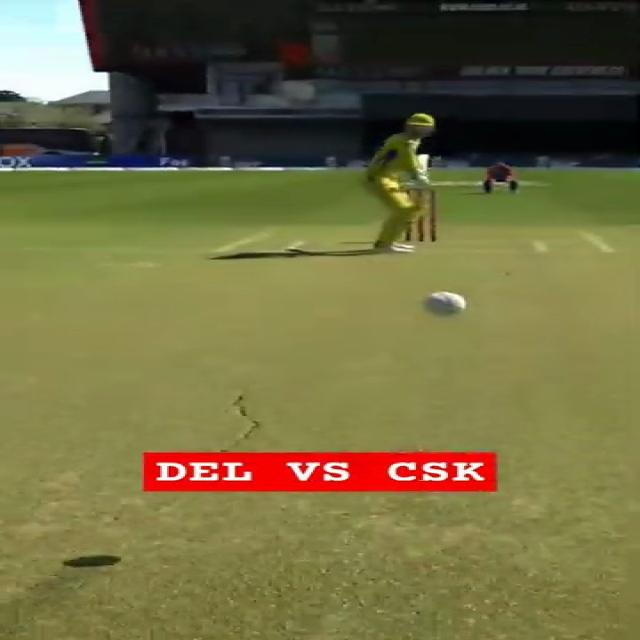ball: (418, 290, 466, 317)
